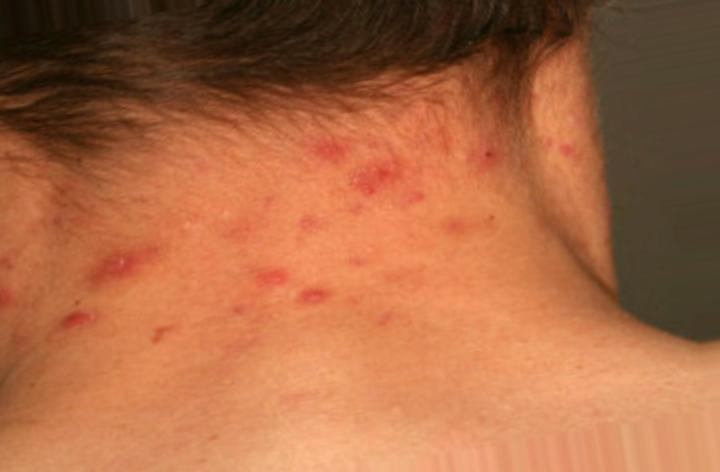Folliculitis: (194, 129, 499, 306)
